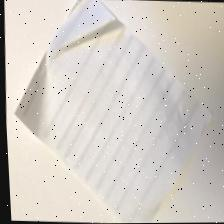paper: (1, 0, 215, 224)
